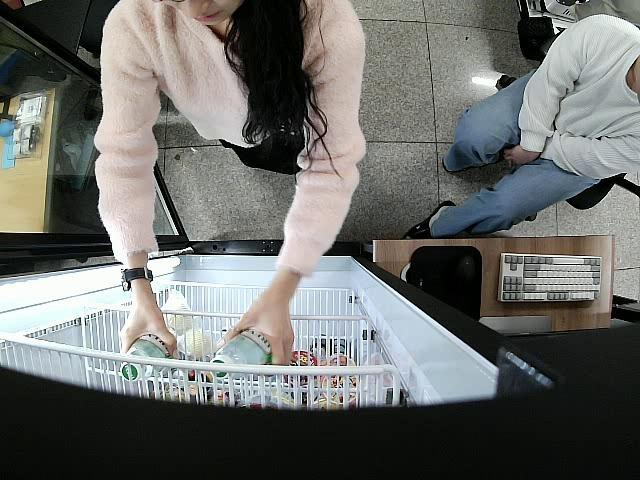18_trevi: (211, 329, 273, 381), (119, 333, 173, 382)
